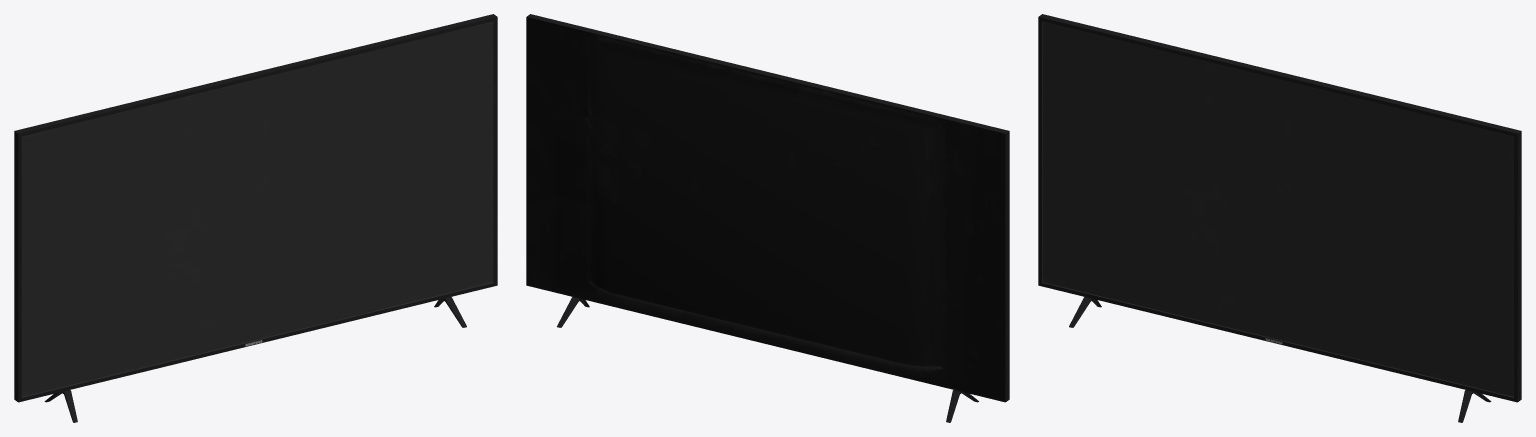
Rendered from game_ready_free_livingroom_tv.glb.
The picture shows the model from 3 angles, left to right: view 1: azimuth 30°, elevation 25°; view 2: azimuth 150°, elevation 25°; view 3: azimuth 330°, elevation 25°; orthographic projection.
Parts seen in each view (by area): view 1: TV_Screen_Livingroom_TV_0, TV_Legs_Livingroom_TV_0; view 2: TV_Screen_Livingroom_TV_0, TV_Legs_Livingroom_TV_0; view 3: TV_Screen_Livingroom_TV_0, TV_Legs_Livingroom_TV_0.
Boxes of the visible parts, <box> form: TV_Screen_Livingroom_TV_0: <box>14,14,497,402</box>; TV_Legs_Livingroom_TV_0: <box>44,297,466,422</box>; TV_Screen_Livingroom_TV_0: <box>526,14,1009,402</box>; TV_Legs_Livingroom_TV_0: <box>557,297,978,422</box>; TV_Screen_Livingroom_TV_0: <box>1038,14,1521,402</box>; TV_Legs_Livingroom_TV_0: <box>1069,297,1491,422</box>.
Size of the model in its own units: 1.4 by 0.8106 by 0.1496.
1 material, 1 textured.
